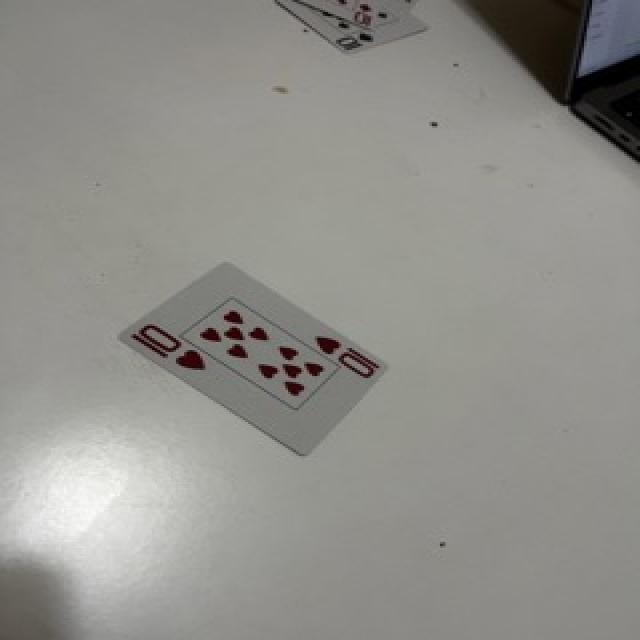10 of hearts: (116, 262, 392, 462)
